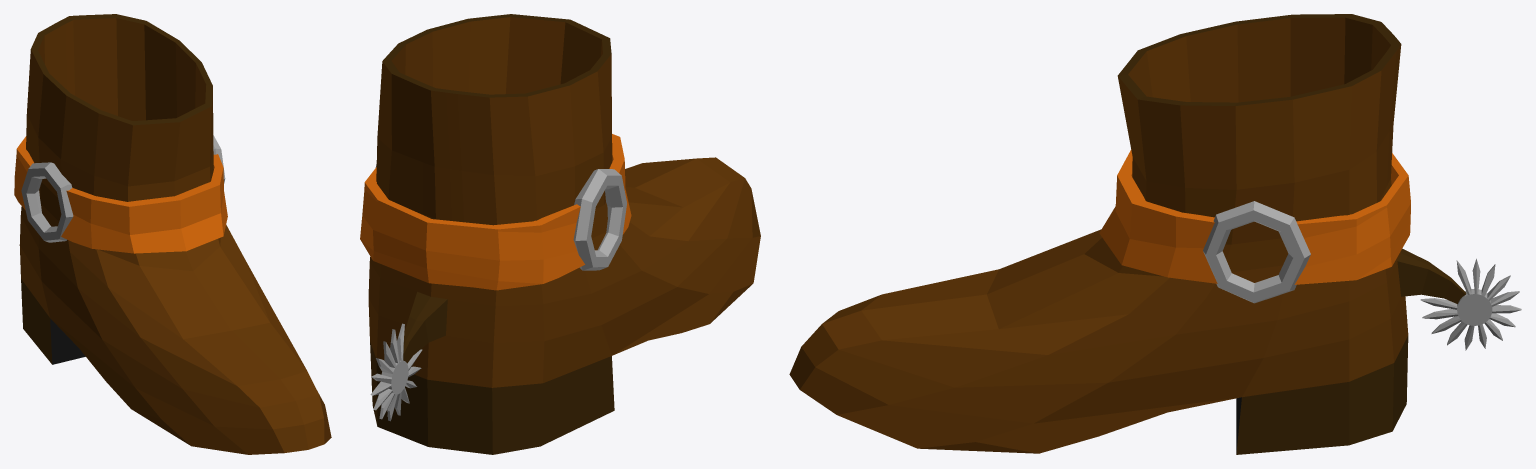
File: Cowboy Stifel.fbx
3 renders of one model, left to right at view 1: azimuth 30°, elevation 25°; view 2: azimuth 150°, elevation 25°; view 3: azimuth 270°, elevation 25°, orthographic. The views are drawn at different scales.
Parts seen in each view (by area): view 1: Zylinder.001; view 2: Zylinder.001; view 3: Zylinder.001.
Boxes of the visible parts, x1,y1,x2,y2 form: Zylinder.001: (14, 14, 331, 454); Zylinder.001: (360, 14, 760, 454); Zylinder.001: (789, 14, 1521, 454).
Bounding box in the file's own units: 101 × 160 × 292.
